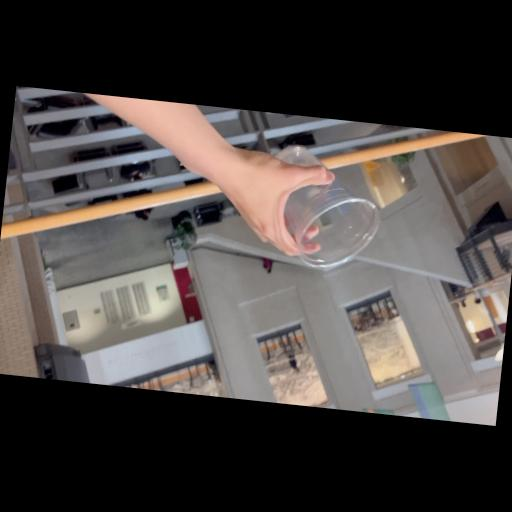lp_plastic_cup: (272, 144, 390, 271)
